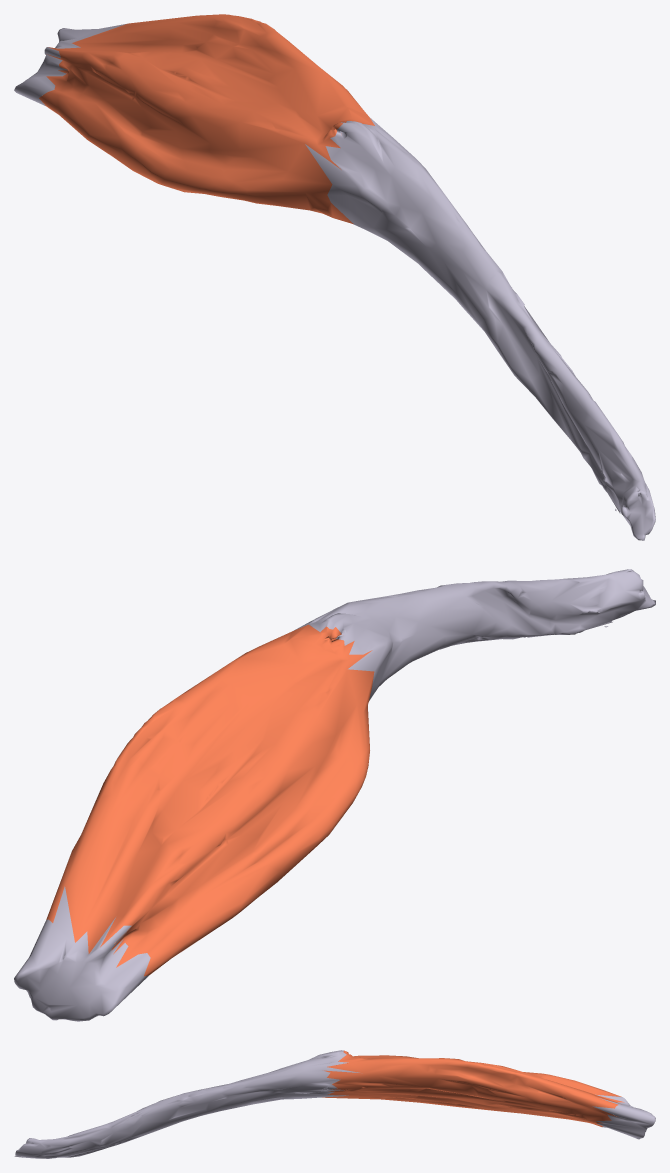
File: Abductor_hallucis.r_Generated_Mesh_From_X3D.1017.glb
The picture shows the model from 3 angles, top to bottom: view 1: azimuth 30°, elevation 25°; view 2: azimuth 150°, elevation 25°; view 3: azimuth 270°, elevation 25°; orthographic projection. The views are drawn at different scales.
Visible parts, largest first — view 1: Abductor_hallucis.r_Generated_Mesh_From_X3D.1017; view 2: Abductor_hallucis.r_Generated_Mesh_From_X3D.1017; view 3: Abductor_hallucis.r_Generated_Mesh_From_X3D.1017.
Boxes of the visible parts, x1,y1,x2,y2 form: Abductor_hallucis.r_Generated_Mesh_From_X3D.1017: (14, 14, 655, 540); Abductor_hallucis.r_Generated_Mesh_From_X3D.1017: (14, 569, 655, 1021); Abductor_hallucis.r_Generated_Mesh_From_X3D.1017: (14, 1050, 655, 1158).
Bounding box in the file's own units: 0.0204 × 0.0269 × 0.1451.
